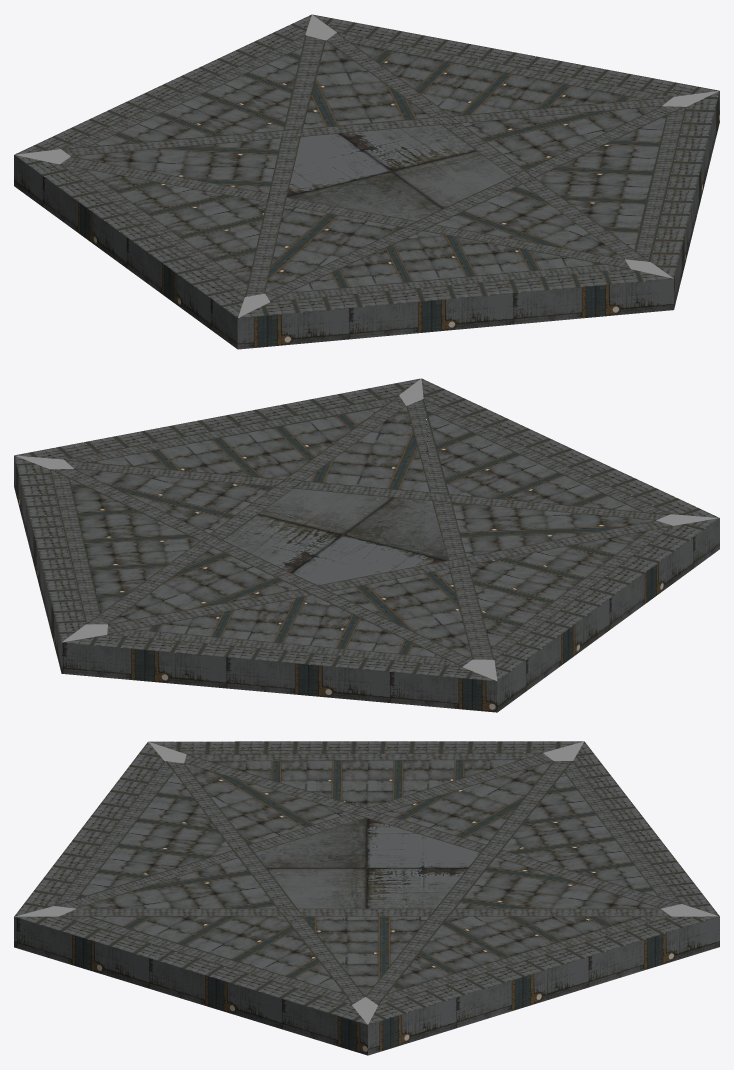
Rendered from Arene.FBX.
The picture shows the model from 3 angles, top to bottom: view 1: azimuth 30°, elevation 25°; view 2: azimuth 150°, elevation 25°; view 3: azimuth 270°, elevation 25°; orthographic projection. The views are drawn at different scales.
Parts seen in each view (by area): view 1: Gengon001; view 2: Gengon001; view 3: Gengon001.
Boxes of the visible parts, x1=… form: Gengon001: x1=14, y1=14, x2=719, y2=349; Gengon001: x1=14, y1=378, x2=719, y2=712; Gengon001: x1=14, y1=741, x2=719, y2=1055.
Bounding box in the file's own units: 50.16 × 2.52 × 52.75.
